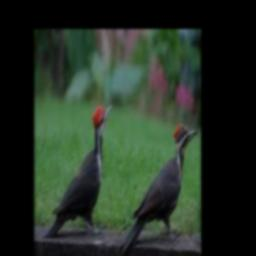Woodpecker: (120, 122, 198, 253), (45, 104, 113, 237)
